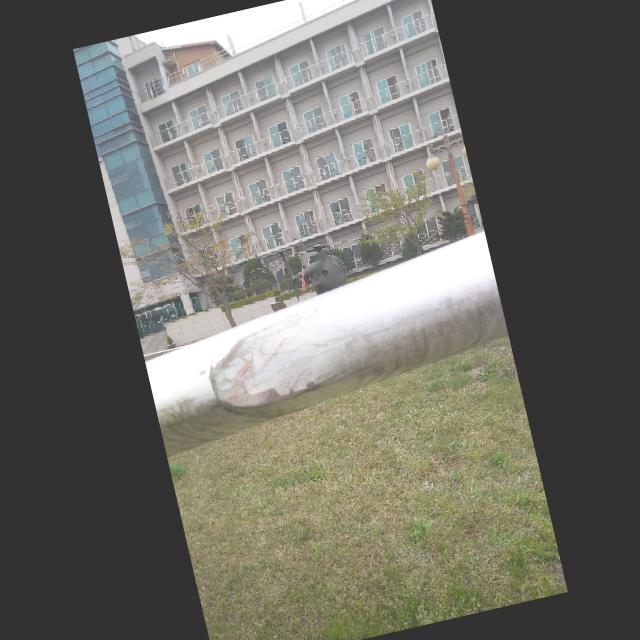dent: (195, 312, 318, 424)
